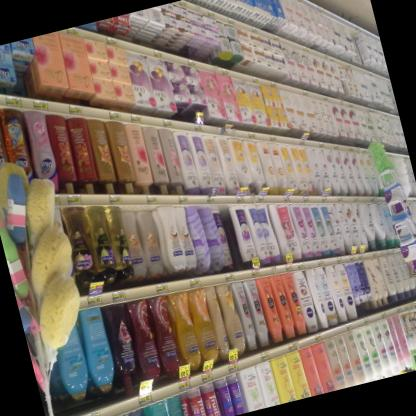empty_space: (219, 201, 241, 262)
